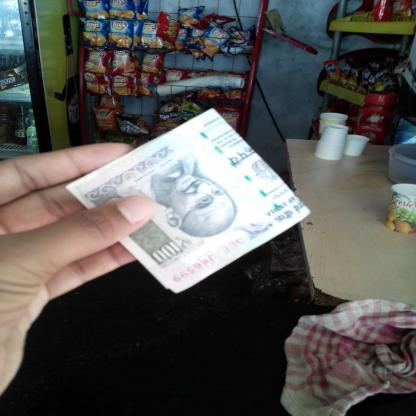Old100Front: (65, 107, 312, 294)
